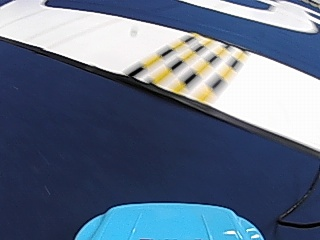bump: (126, 31, 246, 100)
